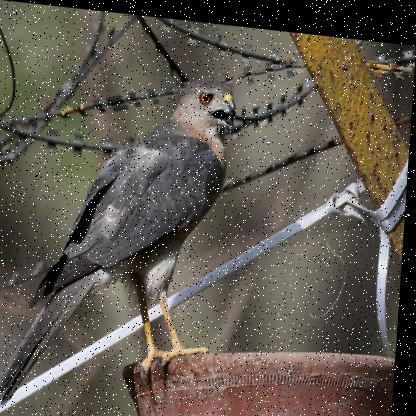Burung: (0, 55, 239, 415)
